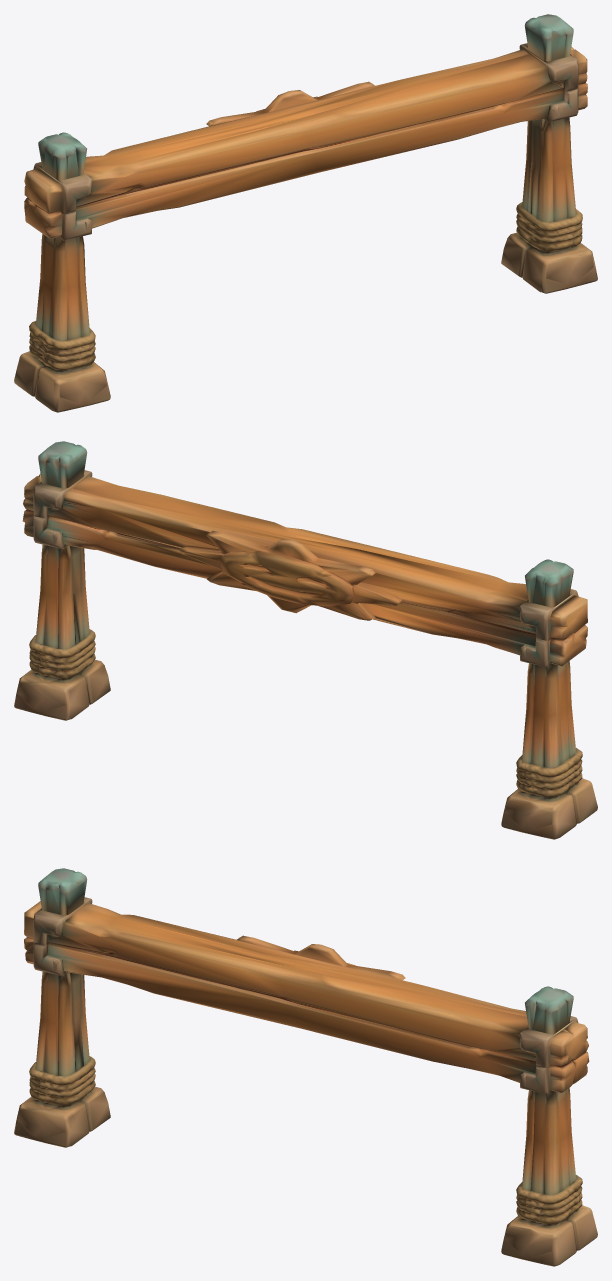
Rendered from asset.glb.
3 renders of one model, top to bottom at view 1: azimuth 30°, elevation 25°; view 2: azimuth 150°, elevation 25°; view 3: azimuth 330°, elevation 25°, orthographic.
Parts seen in each view (by area): view 1: tripo_node_c370242b-c7e7-4ce2-a581-042b2f4e713a; view 2: tripo_node_c370242b-c7e7-4ce2-a581-042b2f4e713a; view 3: tripo_node_c370242b-c7e7-4ce2-a581-042b2f4e713a.
Boxes of the visible parts, x1=… form: tripo_node_c370242b-c7e7-4ce2-a581-042b2f4e713a: x1=14, y1=14, x2=597, y2=412; tripo_node_c370242b-c7e7-4ce2-a581-042b2f4e713a: x1=14, y1=441, x2=597, y2=839; tripo_node_c370242b-c7e7-4ce2-a581-042b2f4e713a: x1=14, y1=868, x2=597, y2=1266.
Size of the model in its own units: 77.31 by 33.94 by 11.
1 material, 1 textured.
